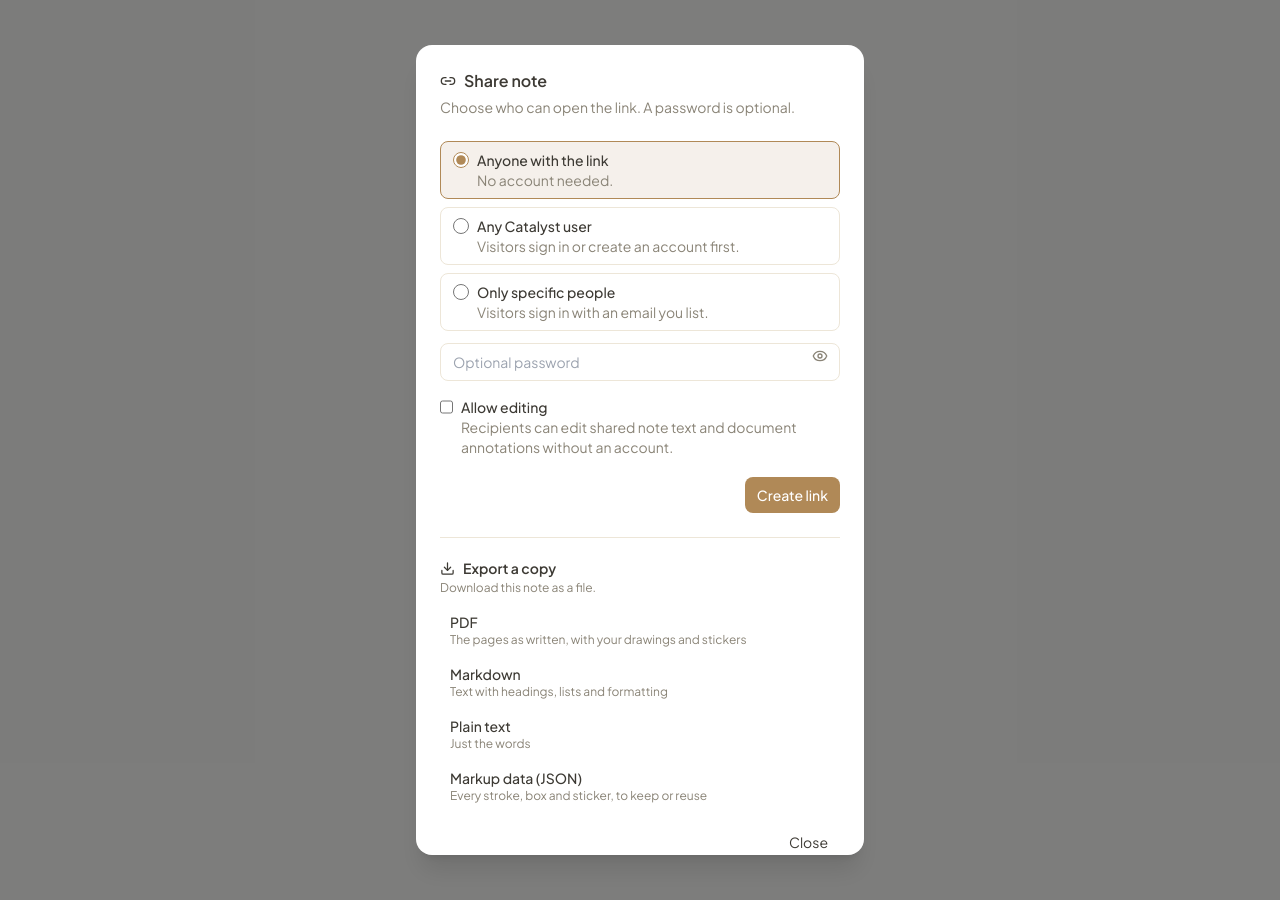
Scenario: Share dialog on the note page › downloads from the dialog and keeps it open
Click the menu item "Markdown Text with headings, lists and formatting": click(640, 682) [440,656,840,708]
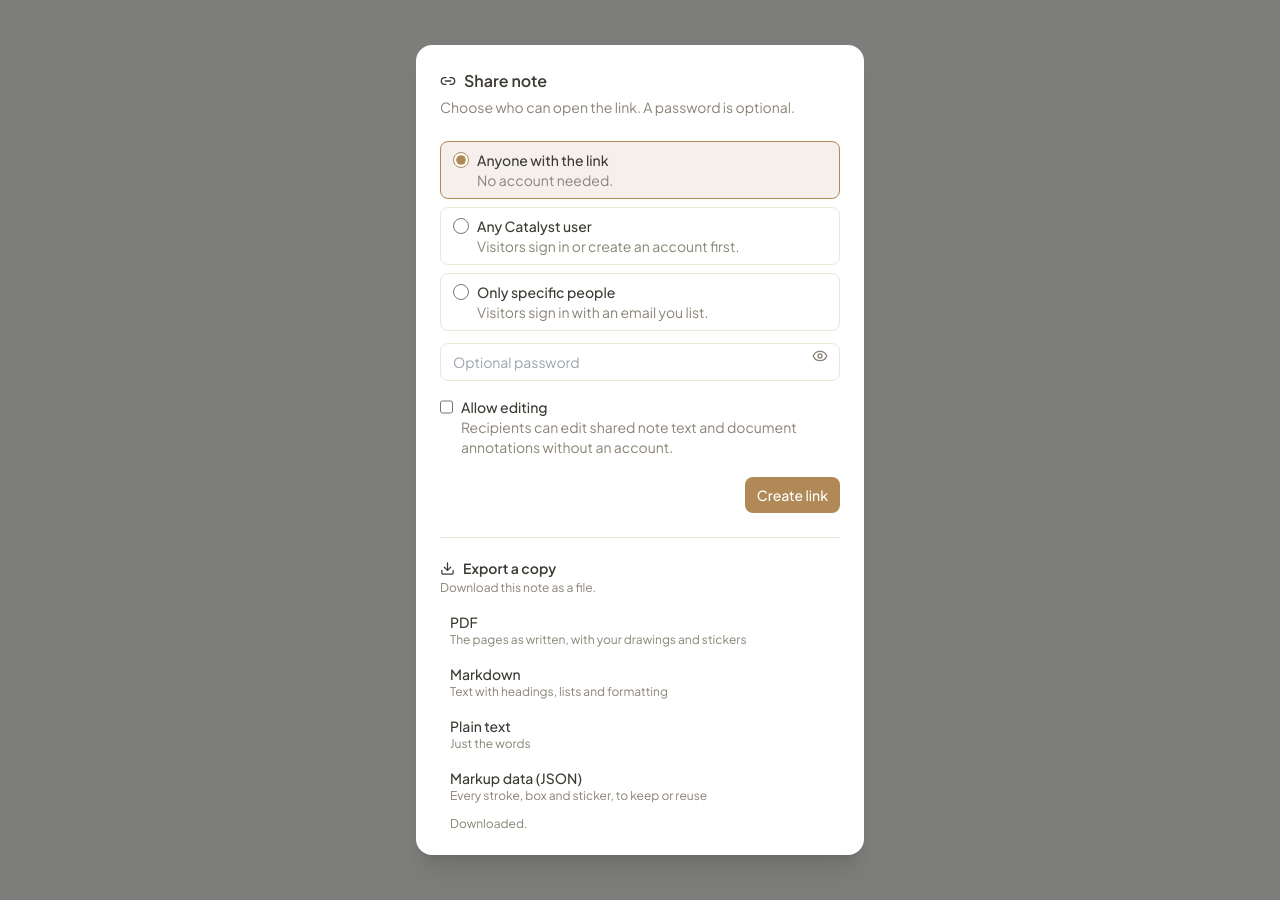
Expected: the dialog is shown, [416,45,864,855]
Result: the text "Downloaded." is shown at [450,816,527,831]
